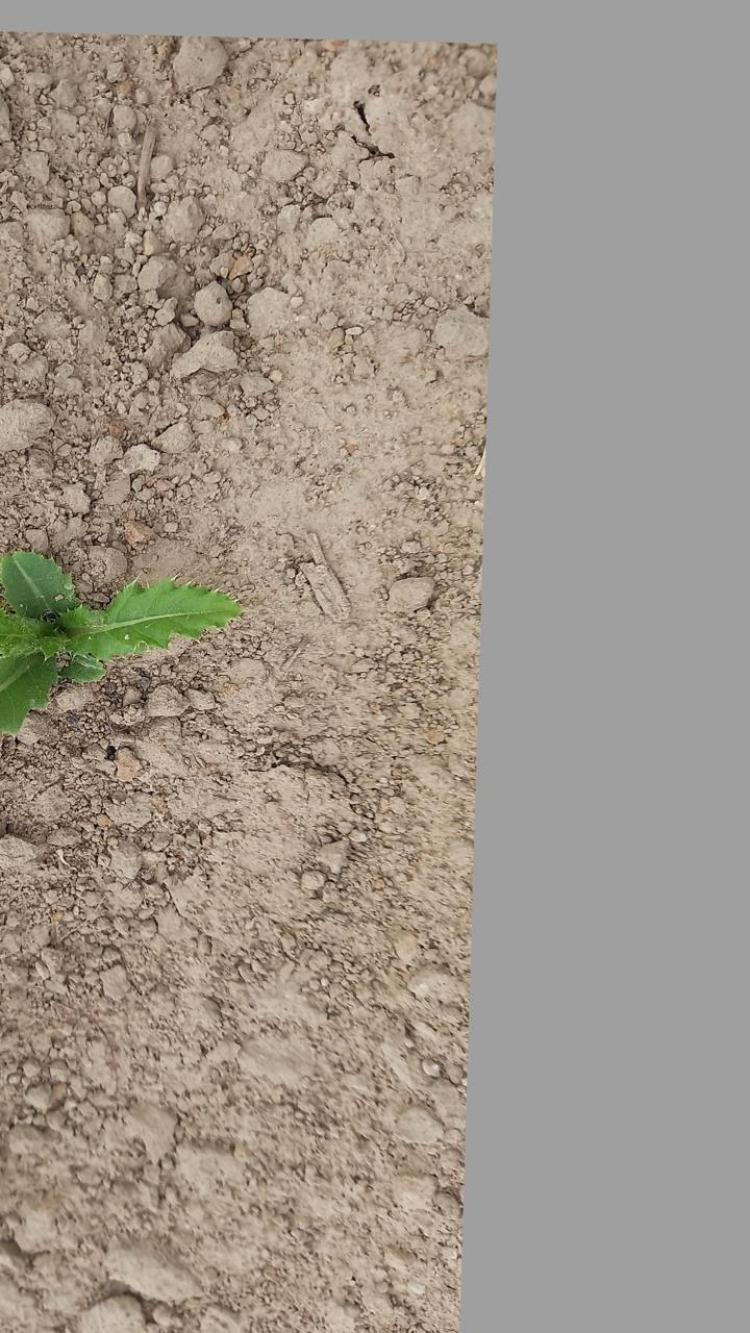bodyak: (0, 548, 258, 727)
